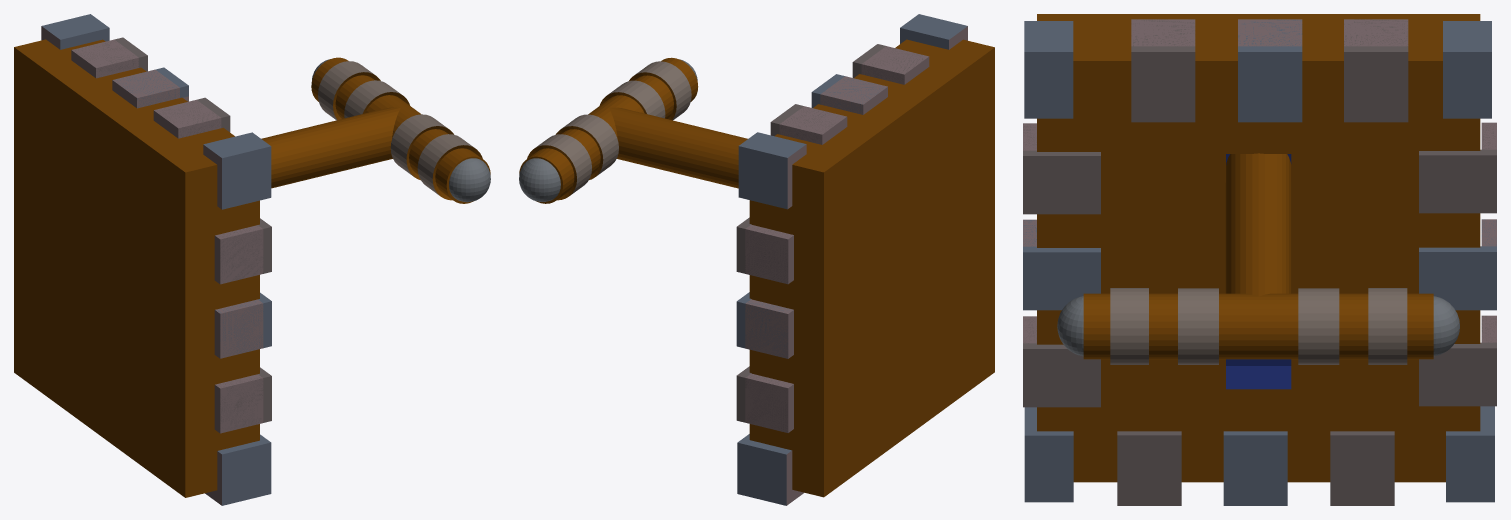
Rendered from rychag.fbx.
The picture shows the model from 3 angles, left to right: view 1: azimuth 30°, elevation 25°; view 2: azimuth 150°, elevation 25°; view 3: azimuth 270°, elevation 25°; orthographic projection. The views are drawn at different scales.
Visible parts, largest first — view 1: Cube.004, Cylinder.002; view 2: Cube.004, Cylinder.002; view 3: Cube.004, Cylinder.002.
Boxes of the visible parts, x1=… form: Cube.004: x1=14, y1=14, x2=271, y2=505; Cylinder.002: x1=261, y1=57, x2=490, y2=203; Cube.004: x1=736, y1=14, x2=994, y2=505; Cylinder.002: x1=519, y1=57, x2=747, y2=203; Cube.004: x1=1023, y1=14, x2=1496, y2=505; Cylinder.002: x1=1057, y1=153, x2=1459, y2=364.
Bounding box in the file's own units: 253 × 260 × 246.
